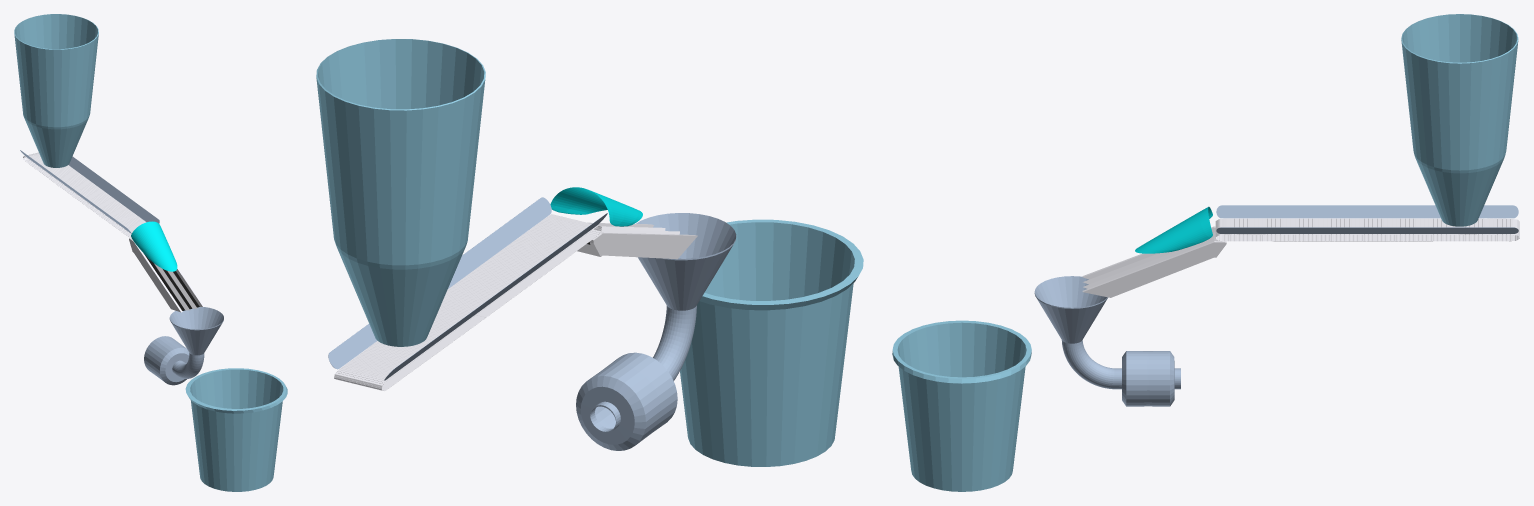
Rendered from afb_model.gltf.
The picture shows the model from 3 angles, left to right: view 1: azimuth 30°, elevation 25°; view 2: azimuth 150°, elevation 25°; view 3: azimuth 270°, elevation 25°; orthographic projection. The views are drawn at different scales.
Parts seen in each view (by area): view 1: Cylinder_grey_balls, Tank, Cylinder, Belt, Cube, Cone, Plane.000, Plane.001; view 2: Tank, Cylinder_grey_balls, Cylinder, Belt, Plane.000, Cube, Cone, Plane.001; view 3: Cylinder_grey_balls, Tank, Cylinder, Belt, Cube, Plane.001, Plane.000, Cone.
Boxes of the visible parts, x1,y1,x2,y2 form: Cylinder_grey_balls: (185,368,287,491); Tank: (14,14,98,167); Cylinder: (144,307,223,385); Belt: (23,152,146,238); Cube: (129,238,204,312); Cone: (131,221,177,271); Plane.000: (68,156,159,223); Plane.001: (20,150,131,233); Tank: (316,39,485,346); Cylinder_grey_balls: (680,219,863,466); Cylinder: (576,213,736,450); Belt: (334,214,601,390); Plane.000: (328,197,551,369); Cube: (577,222,697,259); Cone: (550,187,642,226); Plane.001: (384,213,607,380); Cylinder_grey_balls: (892,320,1031,491); Tank: (1401,14,1518,226); Cylinder: (1034,276,1180,406); Belt: (1215,218,1519,241); Cube: (1082,226,1226,297); Plane.001: (1216,205,1518,218); Plane.000: (1216,227,1518,233); Cone: (1135,206,1212,253).
Bounding box in the file's own units: 7.51 × 25.29 × 33.27.
